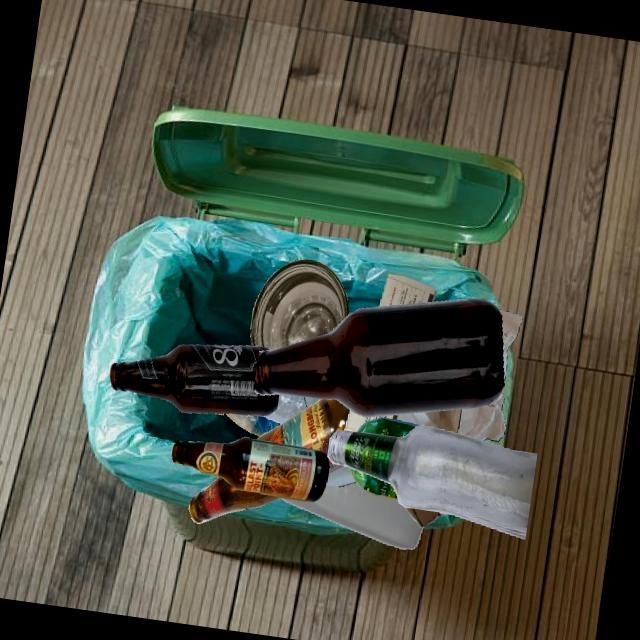cardboard: (405, 507, 448, 528)
glass: (254, 298, 504, 417), (328, 425, 537, 539), (109, 345, 279, 417), (171, 437, 330, 503), (250, 259, 350, 350), (256, 398, 350, 449), (249, 438, 330, 496), (189, 476, 249, 524)
paper: (307, 406, 443, 478), (460, 392, 506, 441), (379, 274, 437, 307), (498, 309, 523, 382), (345, 410, 398, 432)
plastic: (280, 482, 424, 549), (349, 467, 398, 499), (225, 413, 282, 436), (264, 394, 307, 424), (357, 417, 420, 437), (457, 420, 461, 434)
